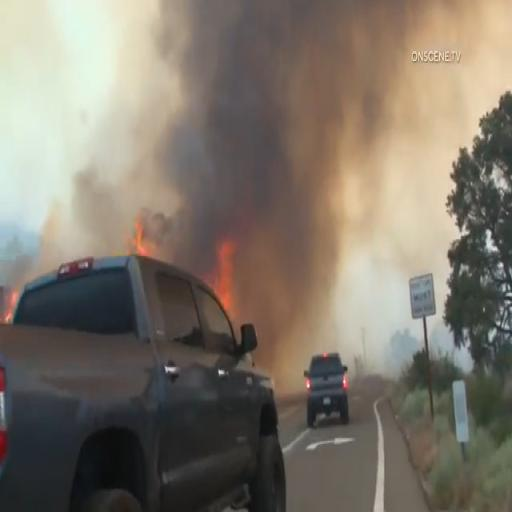smoke: (160, 24, 366, 194)
